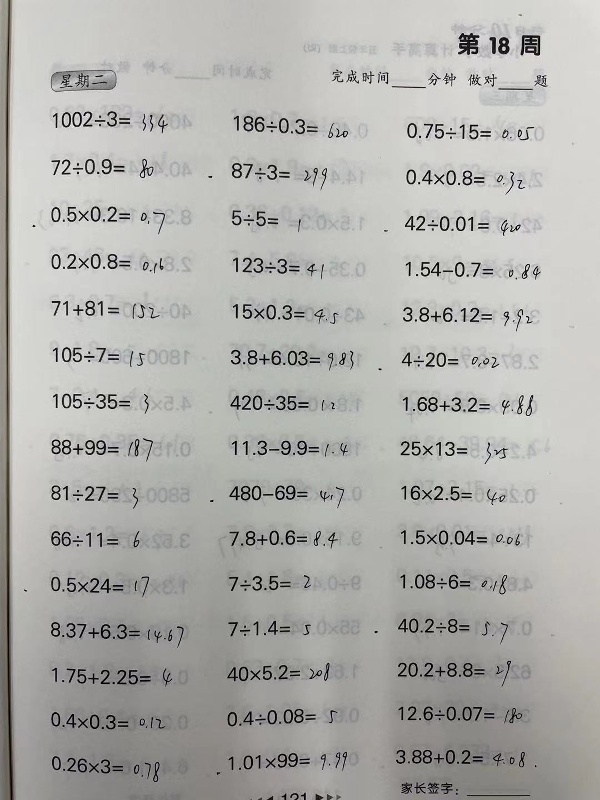equation: (45, 618, 186, 648), (397, 302, 534, 332), (46, 749, 163, 784), (396, 432, 513, 467), (393, 656, 515, 689), (398, 391, 536, 420), (401, 257, 543, 284), (45, 200, 168, 231), (401, 165, 527, 195), (211, 748, 350, 775), (226, 345, 356, 373), (224, 479, 347, 508), (391, 744, 539, 768), (48, 663, 175, 690), (393, 613, 511, 642), (48, 105, 170, 133), (47, 434, 157, 464), (47, 154, 155, 184), (401, 119, 536, 143), (228, 112, 352, 138), (395, 569, 510, 597), (45, 708, 168, 734), (393, 701, 525, 725), (46, 571, 153, 600), (400, 211, 523, 236), (226, 160, 330, 189), (46, 248, 166, 273), (221, 703, 339, 728), (223, 524, 340, 549), (396, 525, 522, 548), (222, 207, 309, 240), (226, 435, 350, 458), (227, 299, 340, 324), (49, 389, 152, 416), (47, 296, 162, 320), (46, 481, 141, 510), (223, 659, 333, 684), (396, 481, 508, 504), (225, 390, 337, 413), (48, 342, 147, 368), (45, 527, 140, 554), (221, 612, 316, 639), (228, 253, 327, 278), (397, 347, 501, 370), (225, 571, 314, 594)
